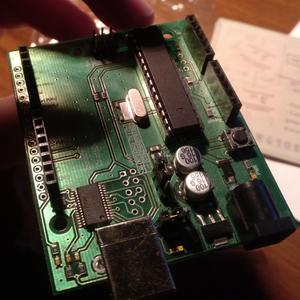duino: (14, 11, 290, 288)
